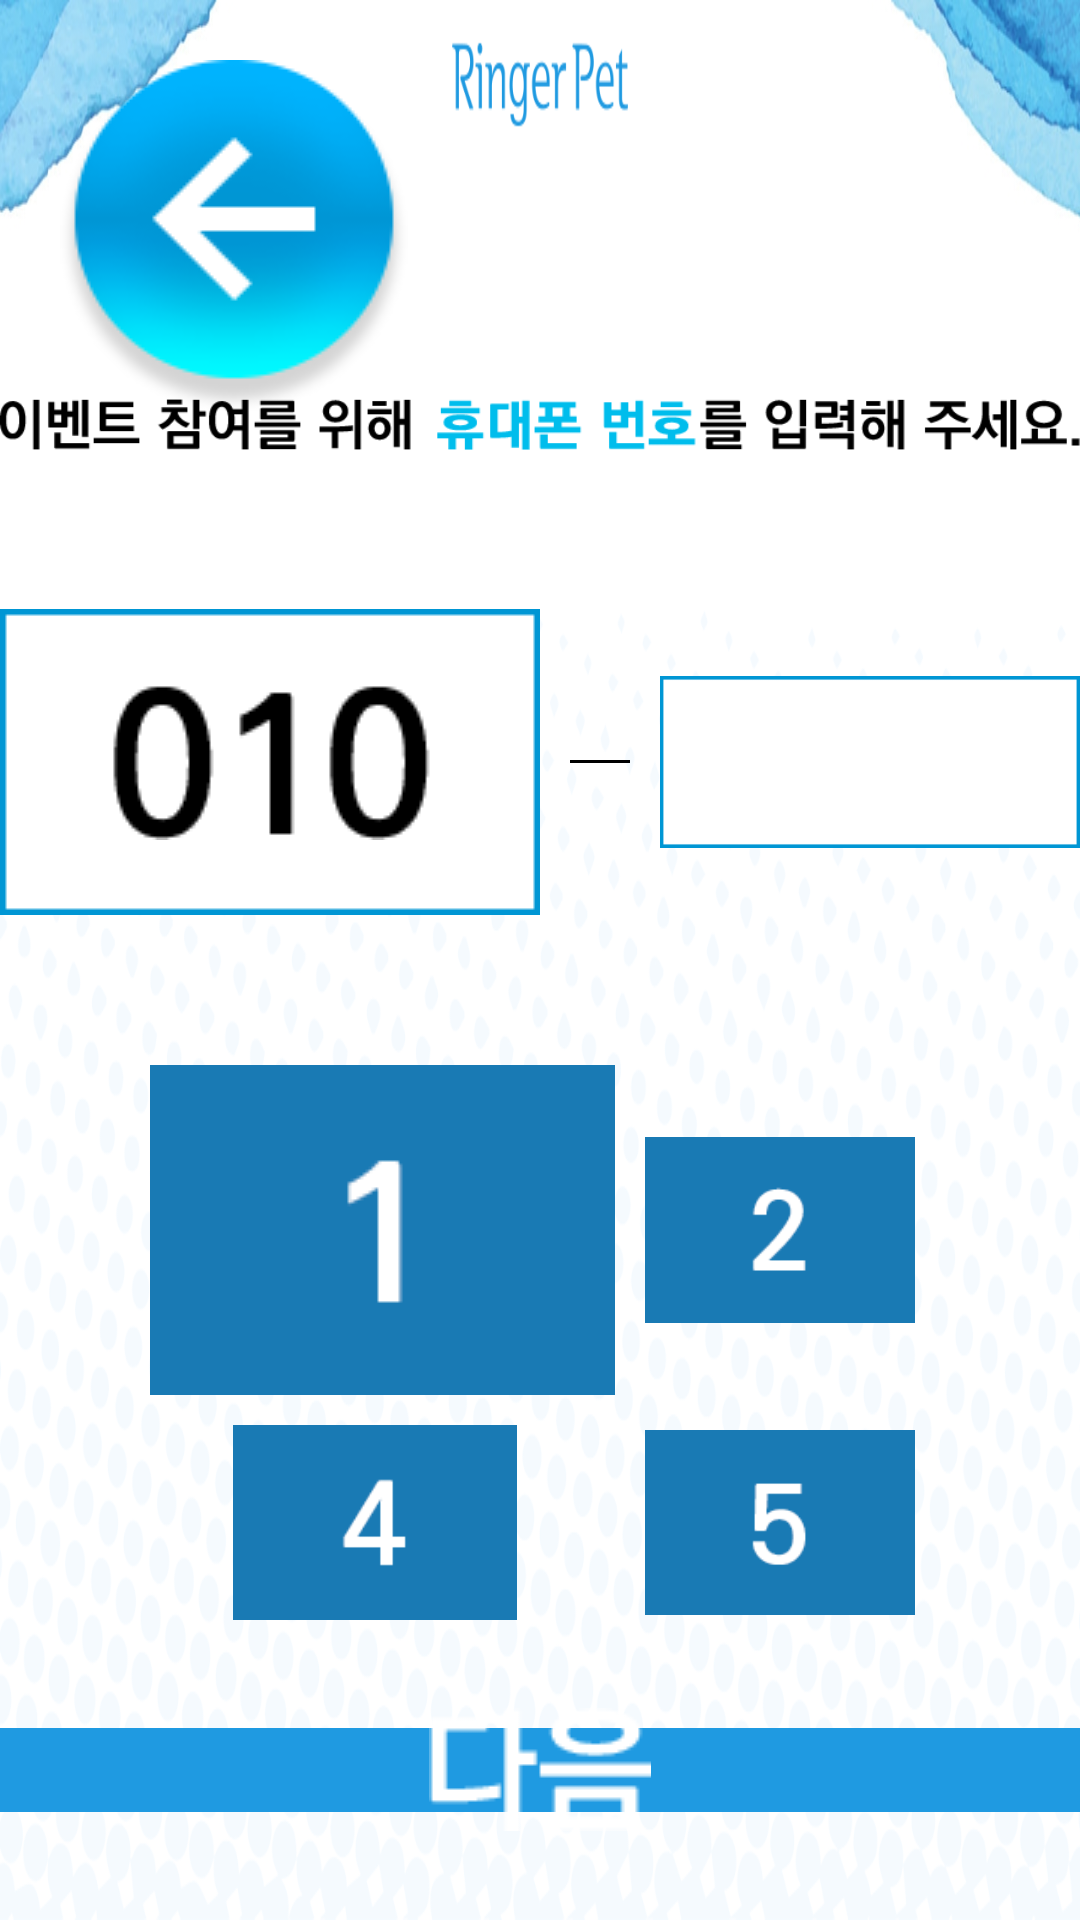

Screen size 1080*1920. Icon name, then its box in pixels as (x1, y1, x2, y2):
back: (60, 60, 408, 411)
